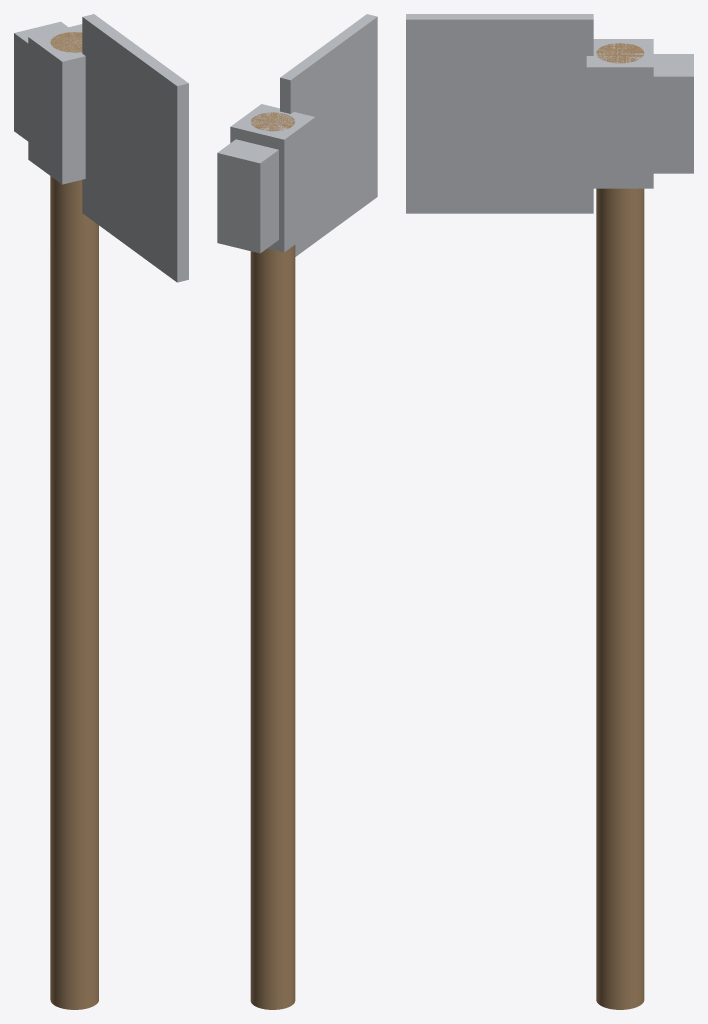
File: beach-felling-axe.glb
The picture shows the model from 3 angles, left to right: view 1: azimuth 30°, elevation 25°; view 2: azimuth 150°, elevation 25°; view 3: azimuth 270°, elevation 25°; orthographic projection. The views are drawn at different scales.
Visible parts, largest first — view 1: Haft, Blade, Head Eye, Poll; view 2: Haft, Blade, Poll, Head Eye; view 3: Haft, Blade, Head Eye, Poll.
Part boxes in pixels (x1,y1,x2,y2): Haft: (50, 32, 98, 1009); Blade: (82, 14, 188, 282); Head Eye: (28, 24, 85, 184); Poll: (14, 21, 68, 141); Haft: (250, 112, 295, 1009); Blade: (280, 14, 377, 256); Poll: (217, 139, 278, 253); Head Eye: (230, 104, 315, 252); Haft: (596, 43, 644, 1009); Blade: (406, 14, 593, 213); Head Eye: (586, 39, 653, 188); Poll: (653, 54, 693, 173).
Bounding box in the file's own units: 0.05 × 0.81 × 0.215.
